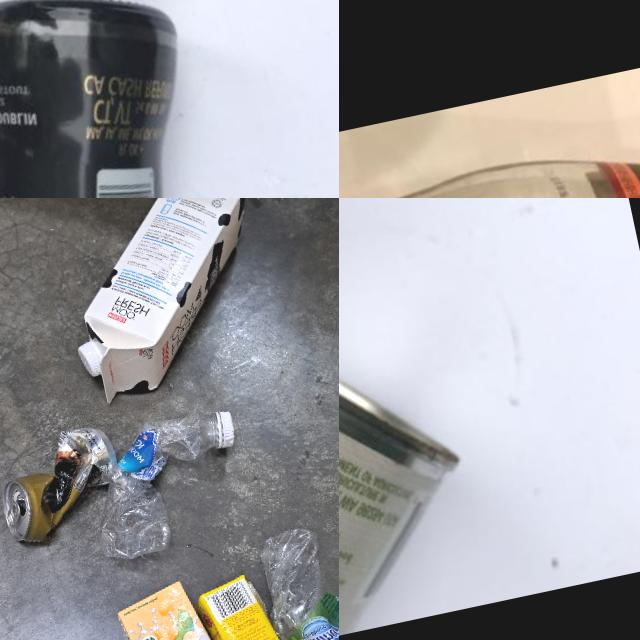aba de lata: (5, 501, 22, 527)
caixinha: (56, 198, 285, 404), (191, 561, 339, 640), (111, 569, 270, 640)
garrafa de vidro: (0, 0, 226, 198), (339, 78, 640, 198)
garrafa plástica: (76, 404, 238, 564), (250, 512, 339, 640)
lata: (339, 203, 491, 640), (0, 420, 129, 547)
tampa plástica: (215, 408, 238, 448)
